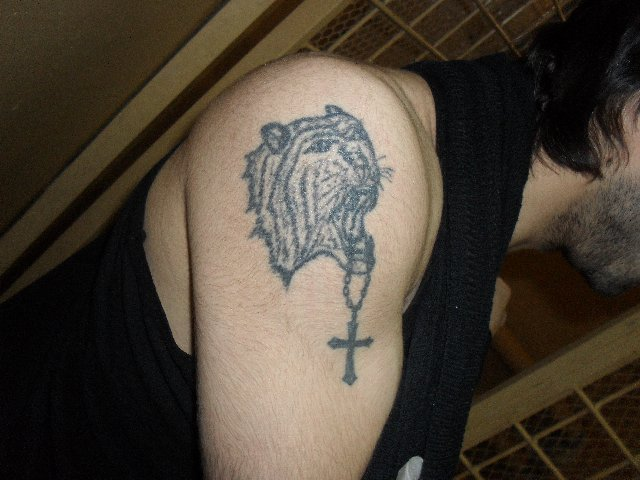tatu5_tigr: (241, 104, 396, 288)
tatu9_krest: (325, 320, 375, 390)
